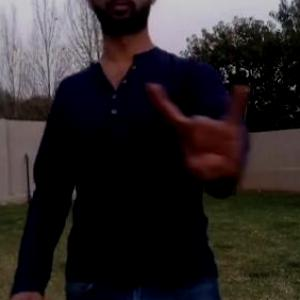takeoff-hand: (146, 73, 255, 183)
